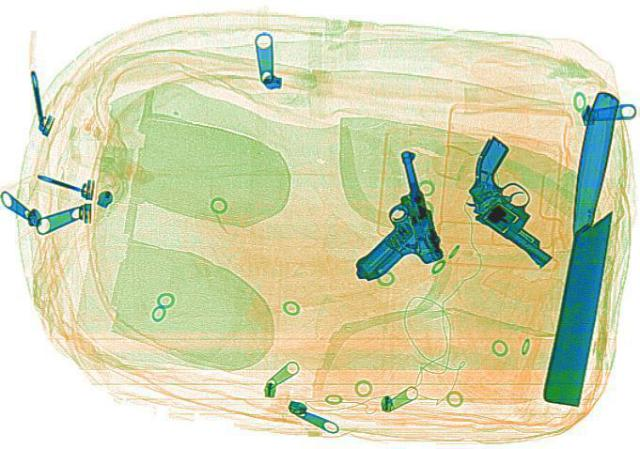Gun: (417, 135, 616, 264), (322, 148, 448, 279)
Knife: (537, 88, 631, 405)
